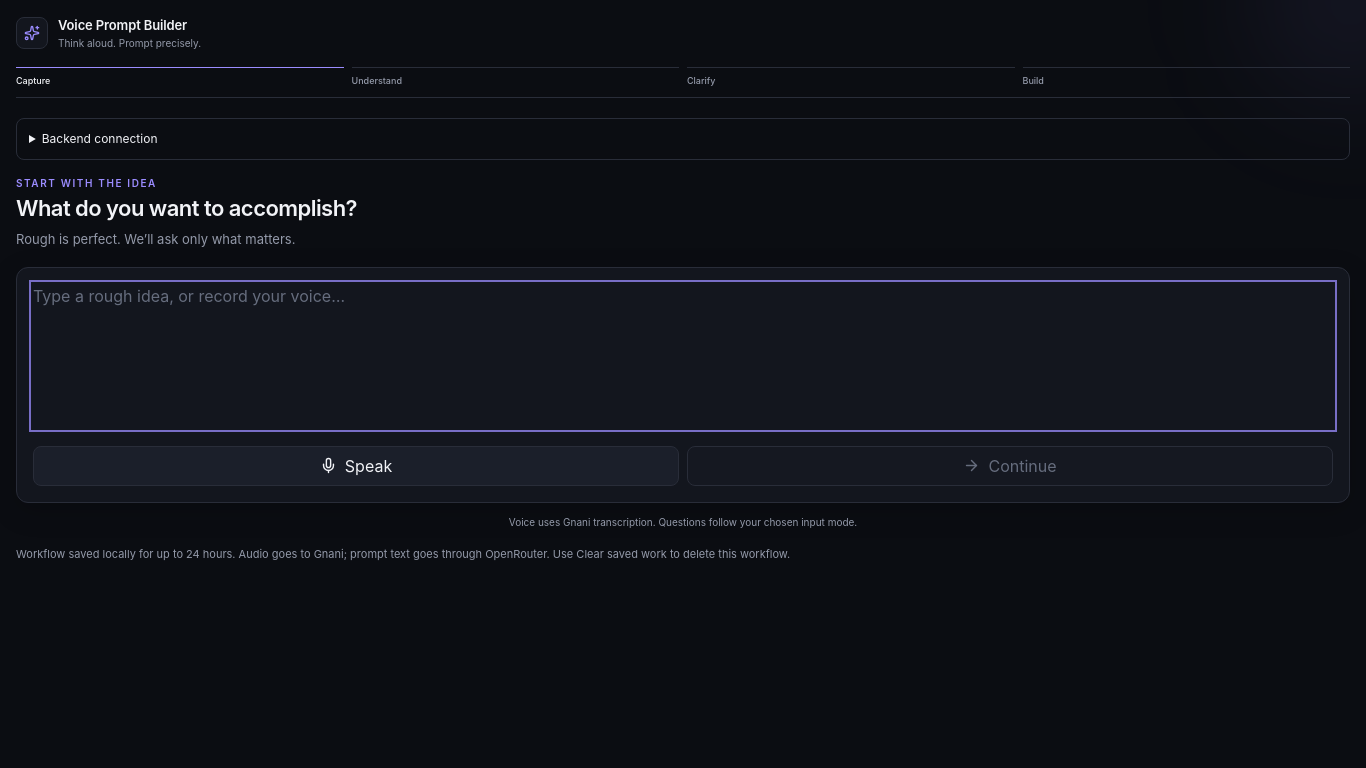
Test: voice mode can deliberately switch to text without losing the question
Click the button "Speak": [356, 466] box x1=33 y1=446 x2=679 y2=486
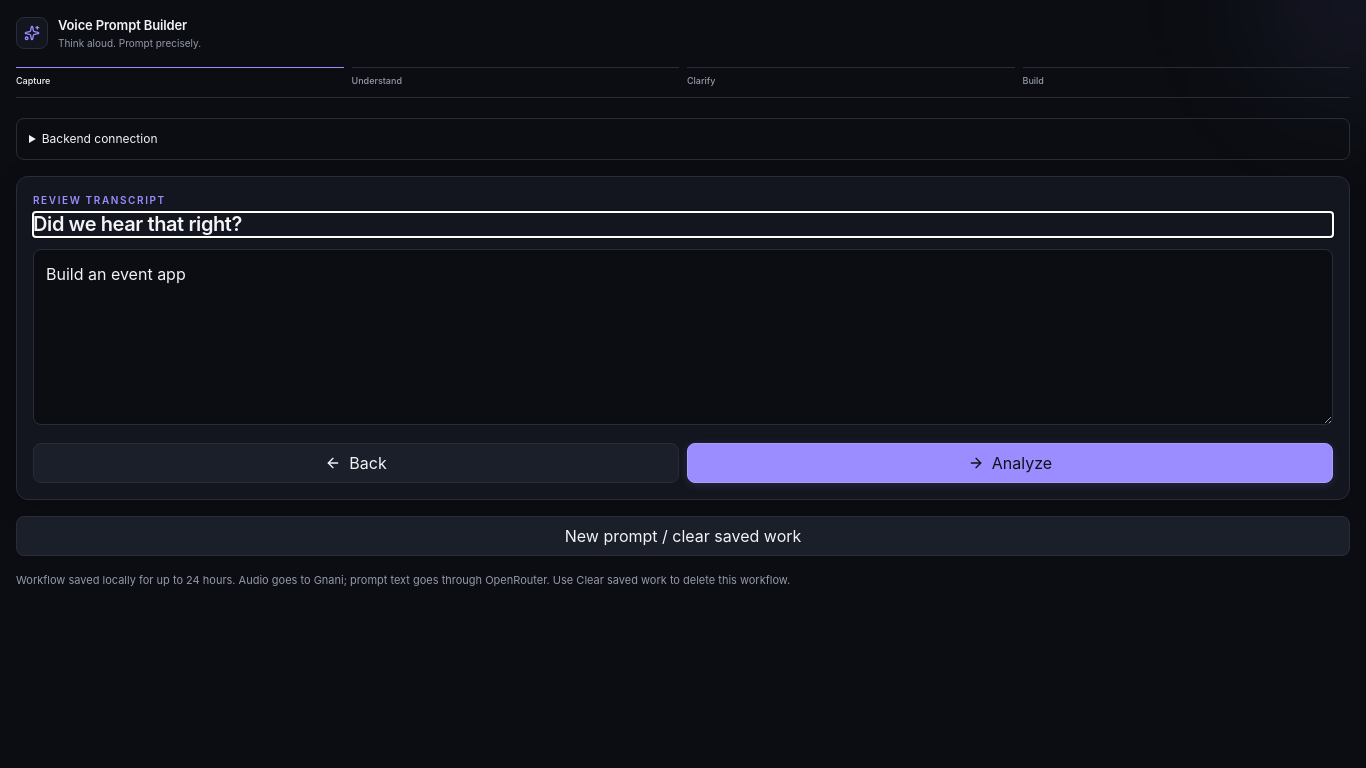
Click the button "Analyze": [1010, 463] box x1=687 y1=443 x2=1333 y2=483
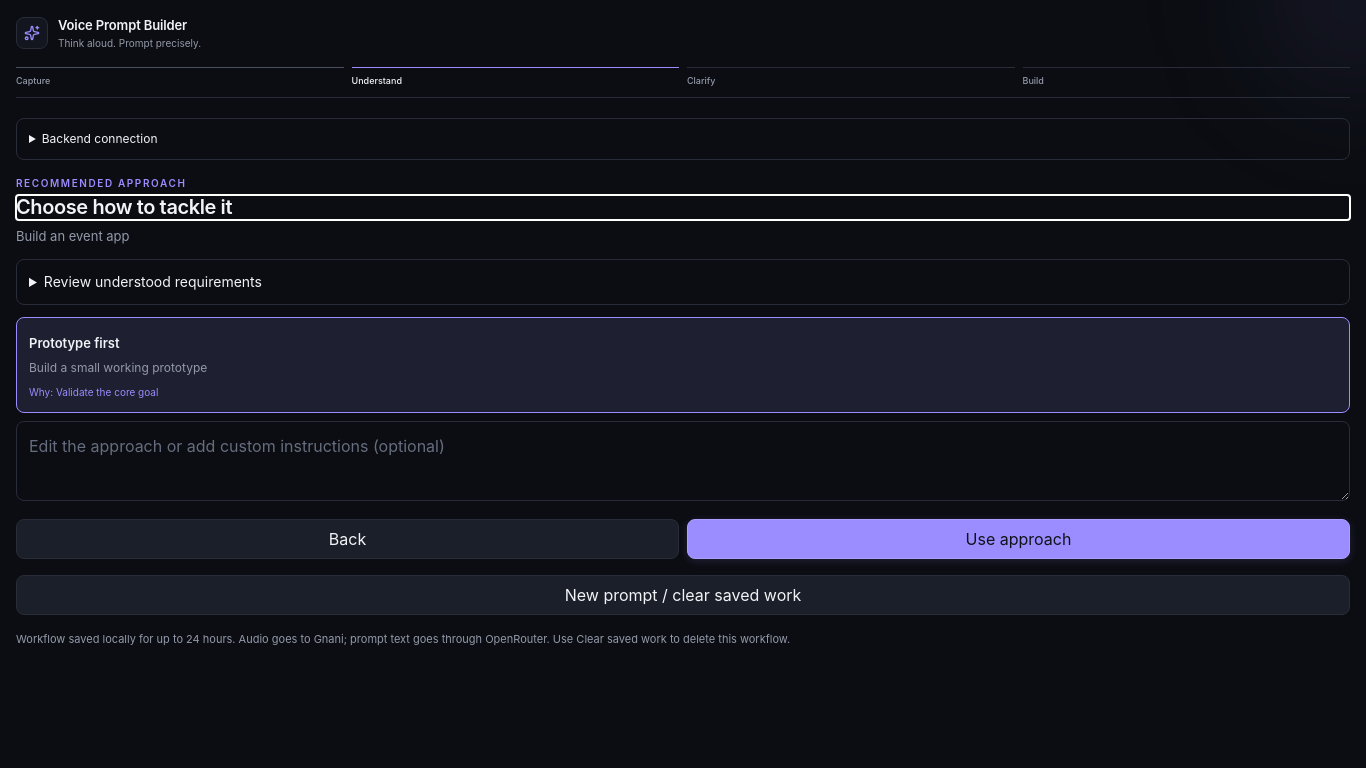
Click the button "Use approach": [1018, 539] box x1=687 y1=519 x2=1350 y2=559
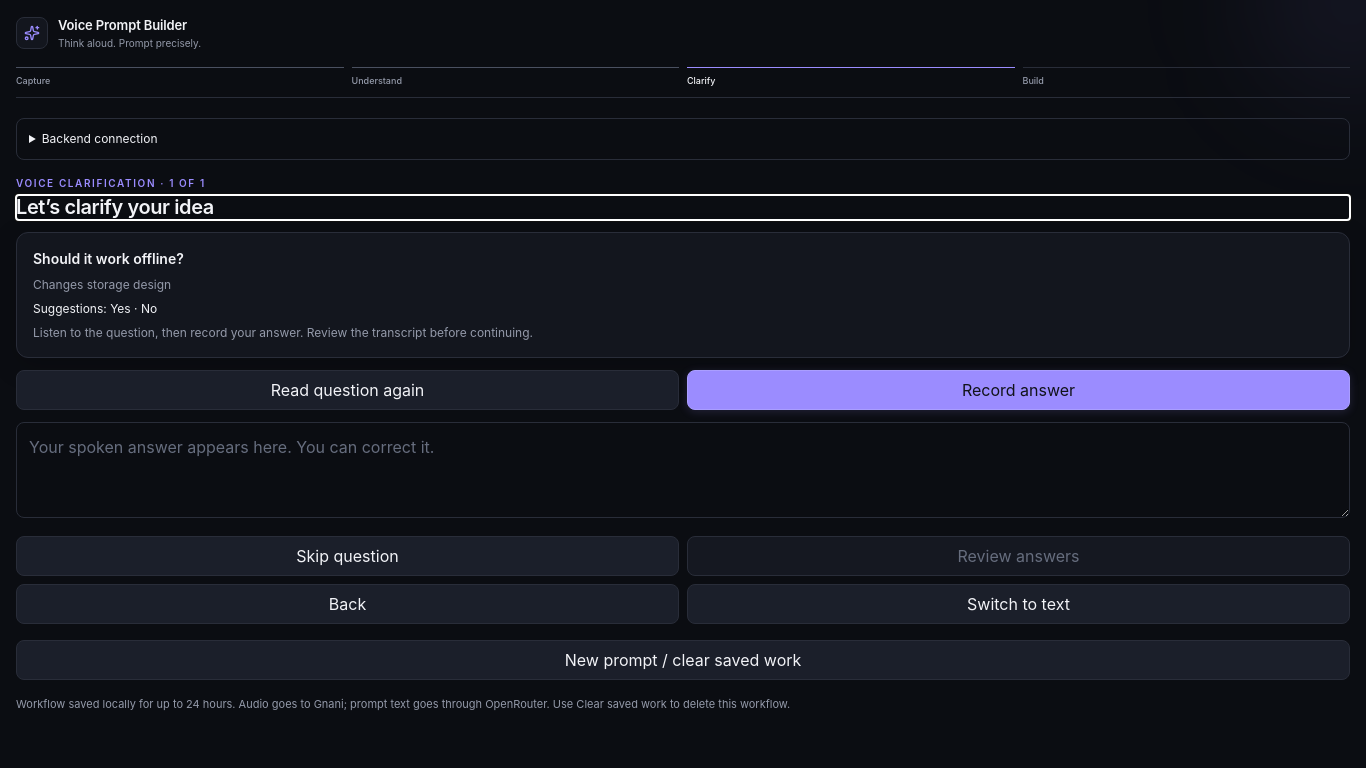
Click the button "Switch to text": [1018, 604] box x1=687 y1=584 x2=1350 y2=624
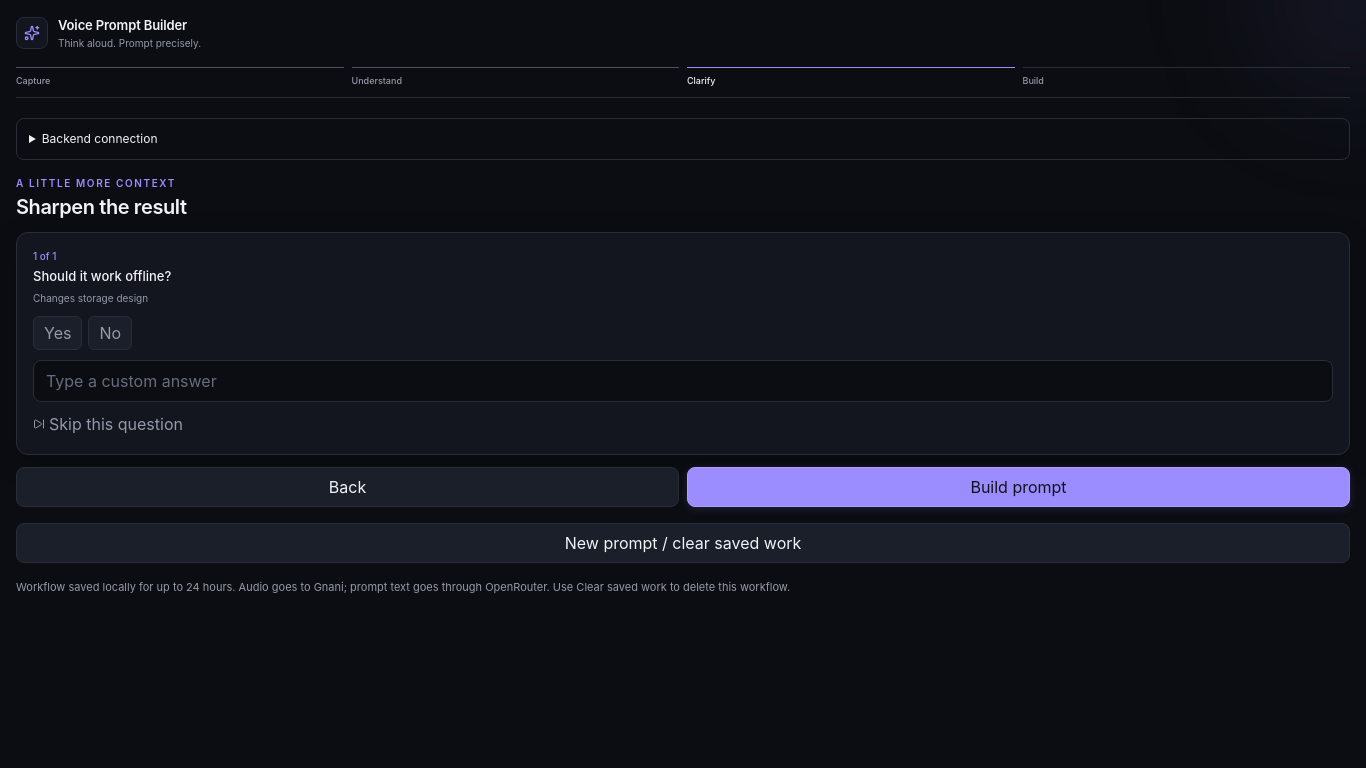
Expected: the button "Record answer" is gone
